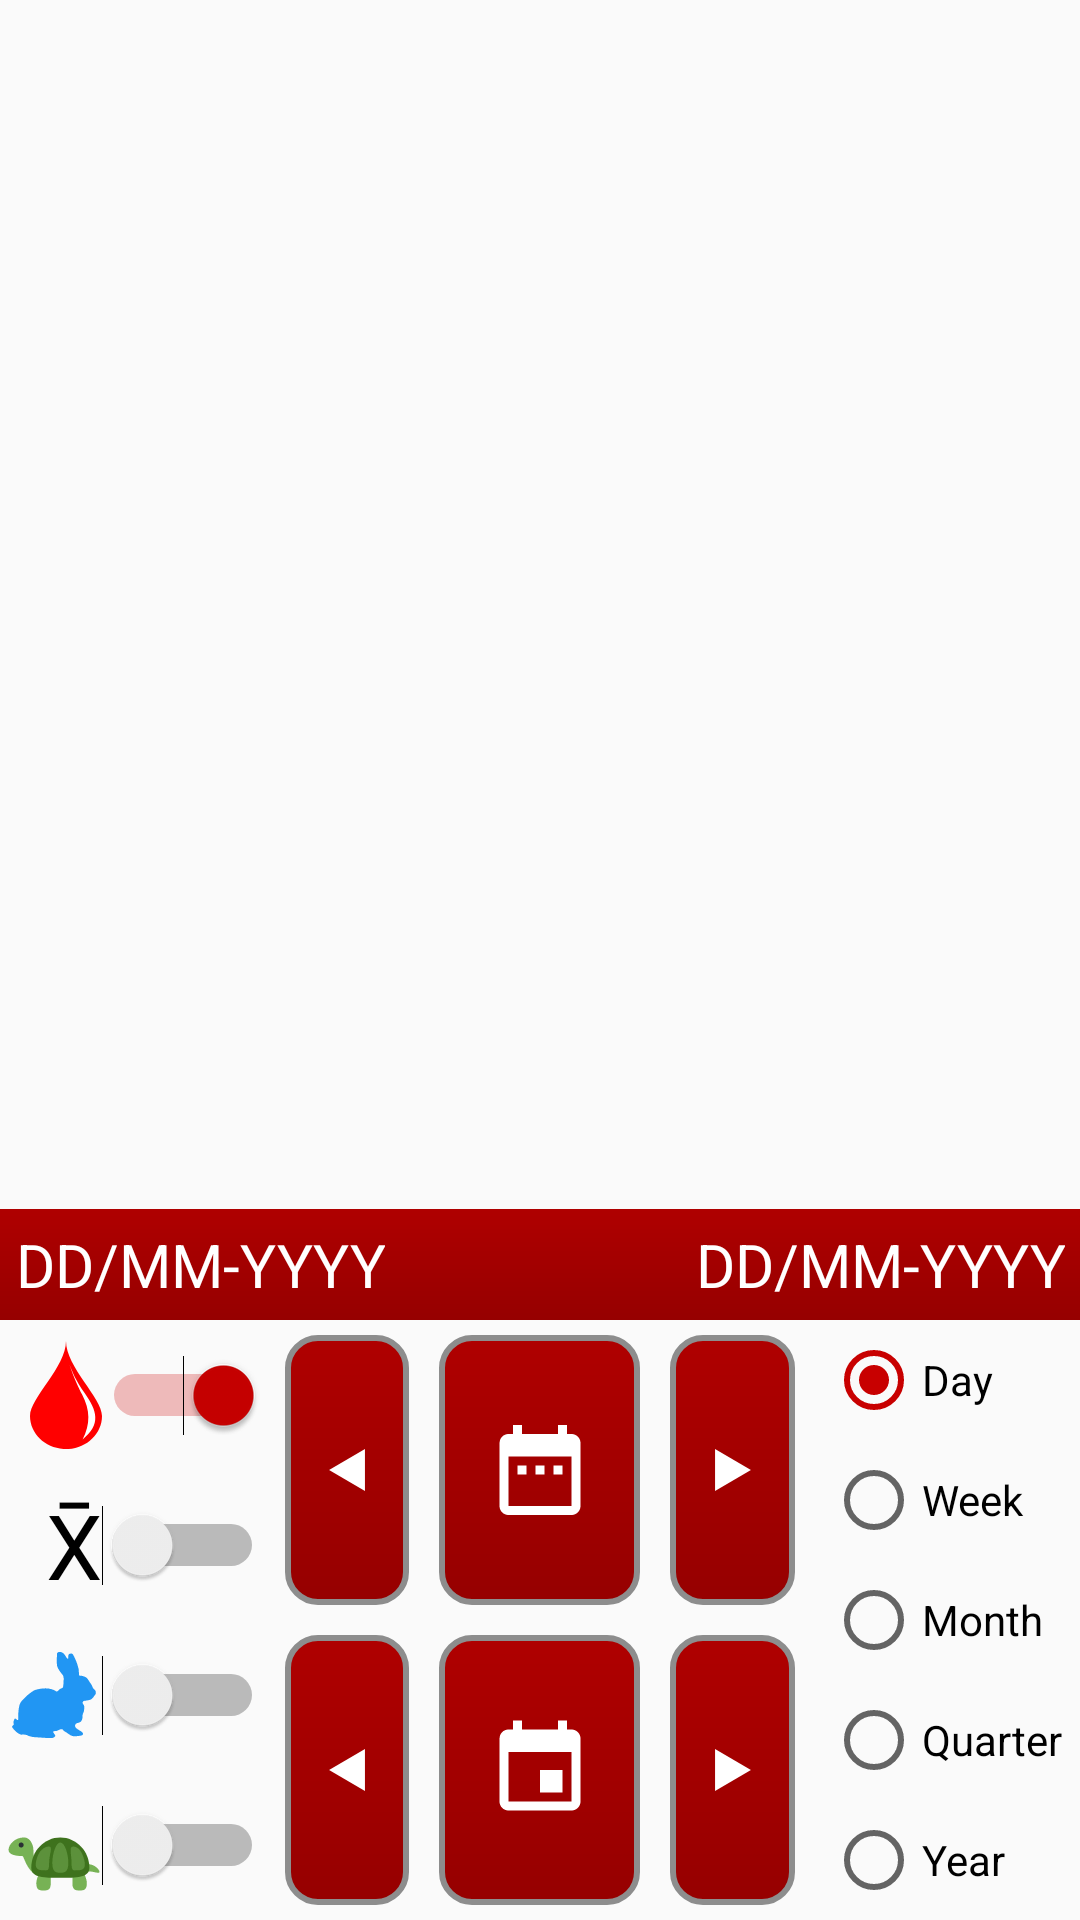

Icons on this 1080x1920 Android screen, each with its box as bbox=[x1, y1, x2, y2]:
date event: bbox=[439, 1635, 640, 1905]
date range: bbox=[439, 1335, 640, 1605]
trianglearrow left: bbox=[285, 1335, 409, 1605], bbox=[285, 1635, 409, 1905]
trianglearrow right: bbox=[670, 1335, 795, 1605], bbox=[670, 1635, 795, 1905]
